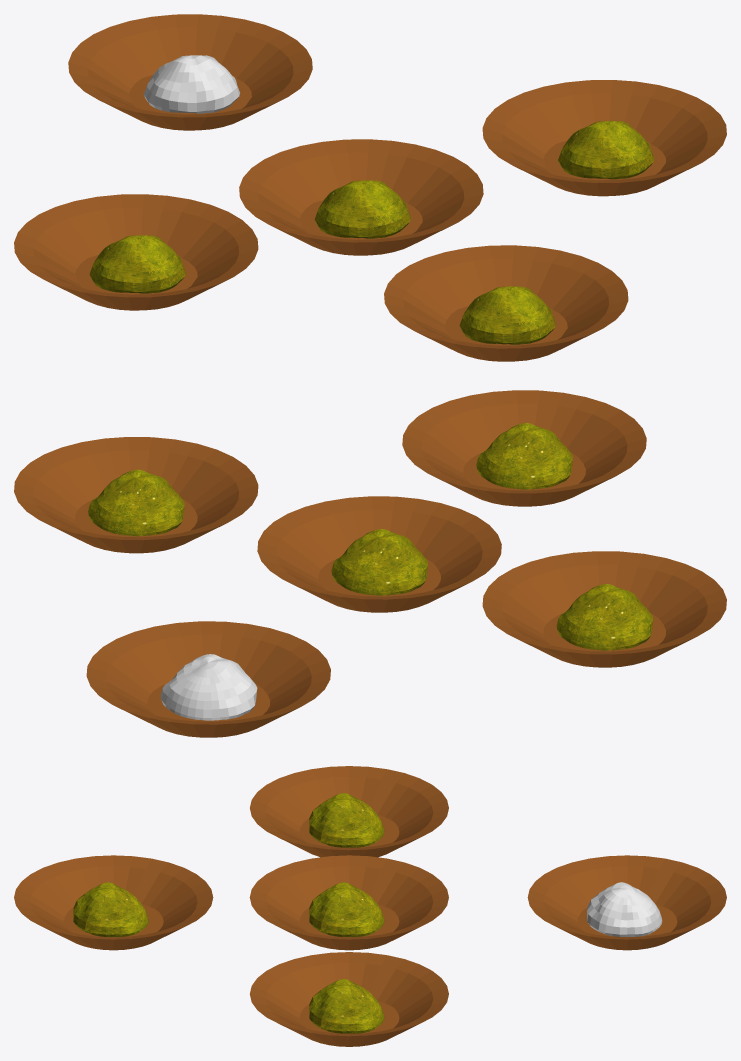
File: bowl(with powder).fbx
3 views of the same model, one above another, from view 1: azimuth 30°, elevation 25°; view 2: azimuth 150°, elevation 25°; view 3: azimuth 270°, elevation 25° (orthographic). The views are drawn at different scales.
Parts seen in each view (by area): view 1: Circle.004, Circle.003, Circle, Circle.001, Circle.002; view 2: Circle.003, Circle.004, Circle, Circle.001, Circle.002; view 3: Circle, Circle.003, Circle.002, Circle.004, Circle.001.
Part boxes in pixels (x1,y1,x2,y2): Circle.004: (68, 14, 312, 130); Circle.003: (384, 245, 628, 361); Circle: (239, 139, 483, 255); Circle.001: (14, 194, 258, 310); Circle.002: (482, 80, 726, 196); Circle.003: (402, 390, 646, 506); Circle.004: (86, 621, 330, 737); Circle: (257, 496, 501, 612); Circle.001: (482, 551, 726, 667); Circle.002: (14, 437, 258, 553); Circle: (249, 855, 448, 950); Circle.003: (14, 855, 213, 950); Circle.002: (250, 952, 448, 1046); Circle.004: (527, 855, 726, 950); Circle.001: (250, 766, 448, 857).
Size of the model in its own units: 521 by 36.4 by 580.
6 materials, 5 textured.
